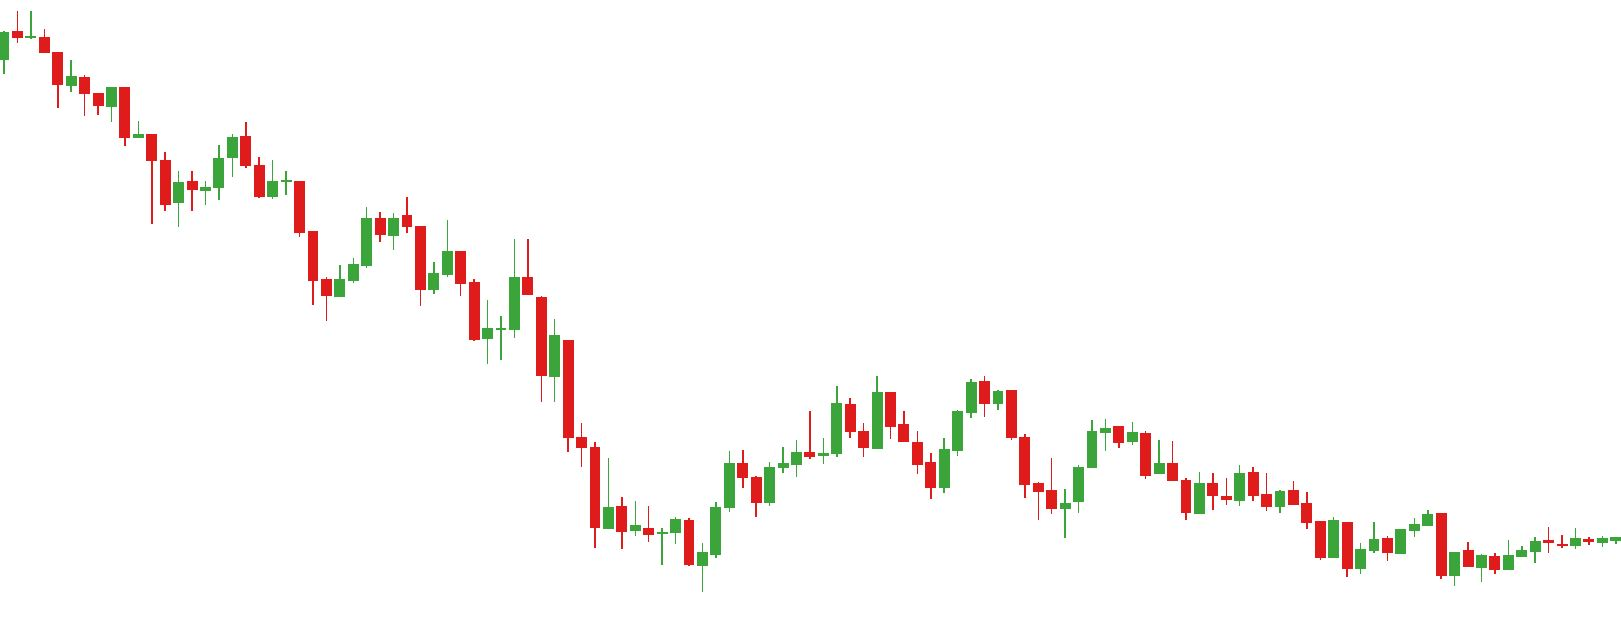buy: (1340, 533, 1462, 587)
sell: (883, 377, 991, 446)
